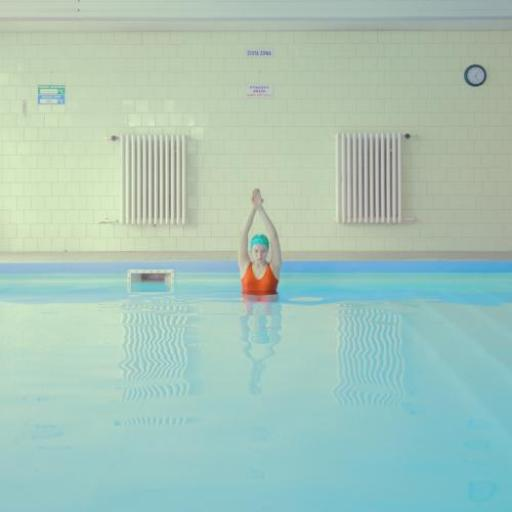swimming: (234, 186, 284, 299)
